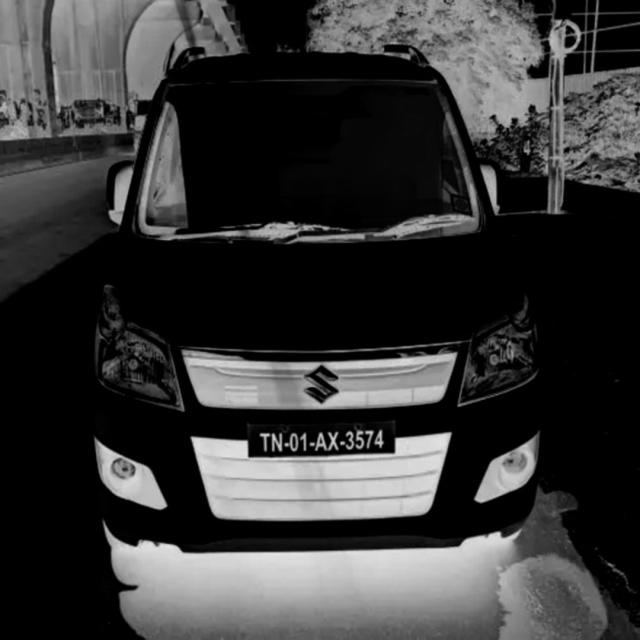Non_registered: (252, 424, 394, 456)
